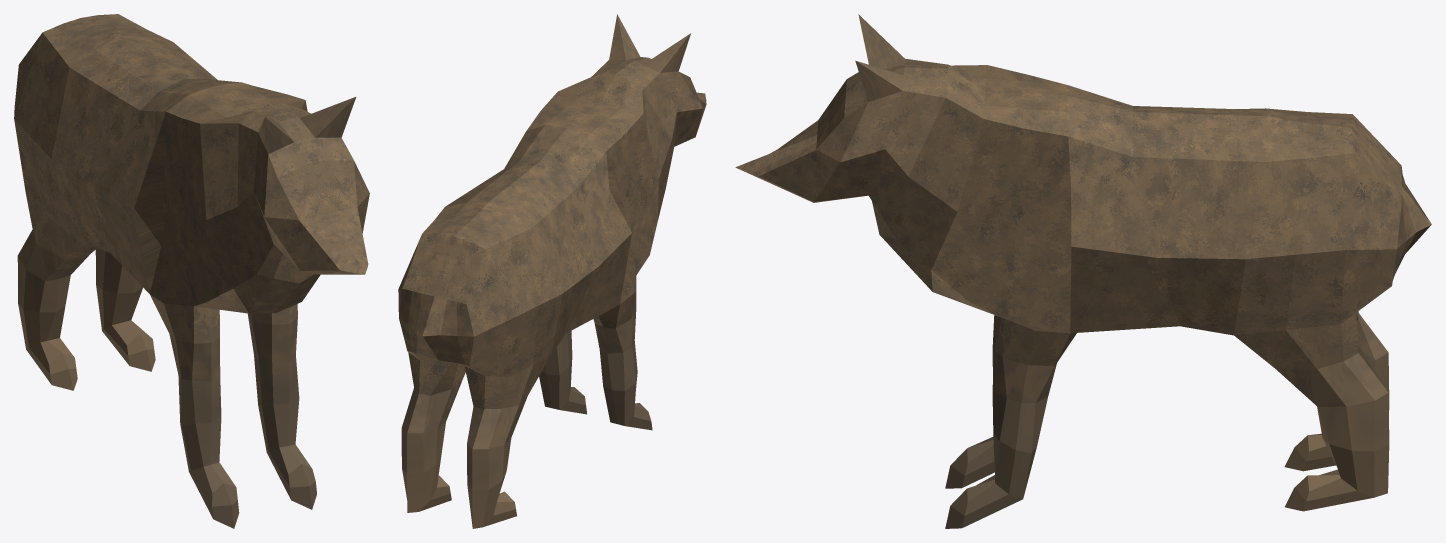
The model's file is piesblend_000003.obj.
The picture shows the model from 3 angles, left to right: view 1: azimuth 30°, elevation 25°; view 2: azimuth 150°, elevation 25°; view 3: azimuth 270°, elevation 25°; orthographic projection. The views are drawn at different scales.
Parts seen in each view (by area): view 1: Cube; view 2: Cube; view 3: Cube.
Boxes of the visible parts, x1,y1,x2,y2 form: Cube: (14,14,369,528); Cube: (398,14,706,528); Cube: (735,14,1431,528).
Size of the model in its own units: 2.56 by 6.83 by 9.19.
Materials: 1 (1 with a texture image).
